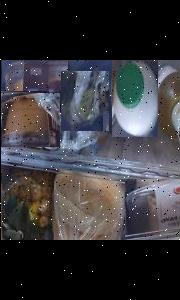Carne pavo: (124, 179, 180, 240)
Leche: (111, 60, 157, 137)
